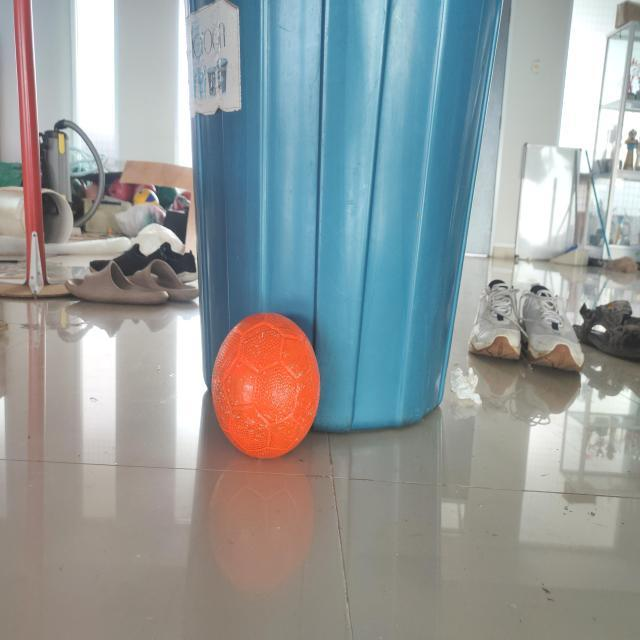bola: (204, 294, 332, 470)
